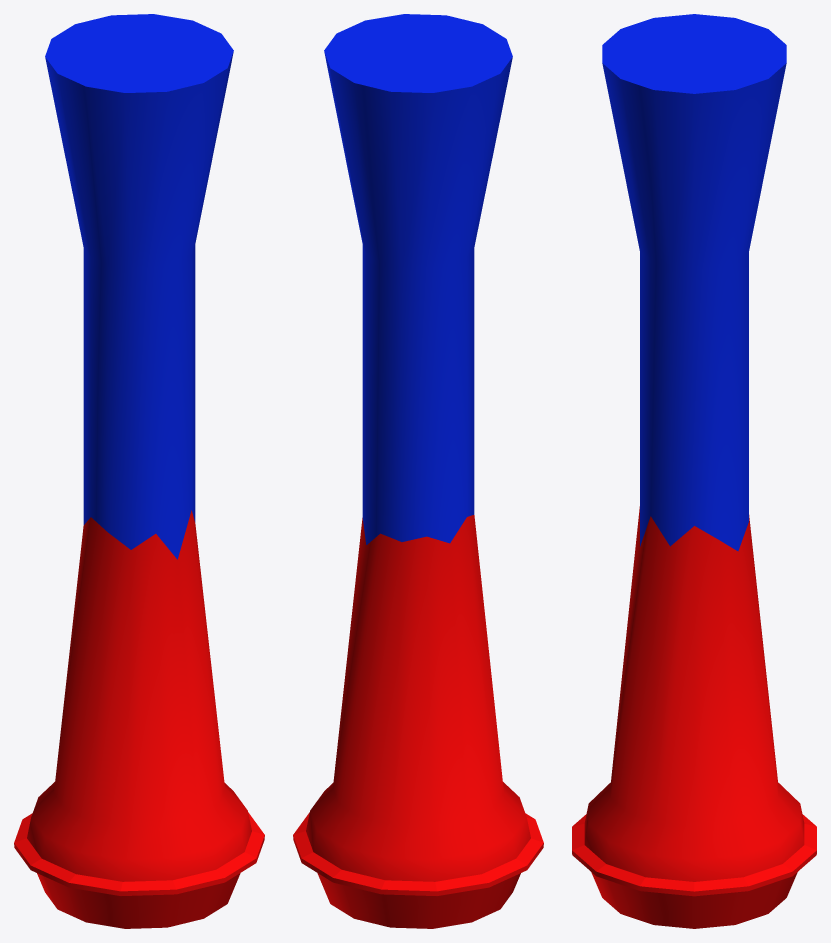
Rendered from body_B.FBX.
3 renders of one model, left to right at view 1: azimuth 30°, elevation 25°; view 2: azimuth 150°, elevation 25°; view 3: azimuth 270°, elevation 25°, orthographic.
Visible parts, largest first — view 1: pillar_B_bodyup, pillar_B_bodydown; view 2: pillar_B_bodyup, pillar_B_bodydown; view 3: pillar_B_bodyup, pillar_B_bodydown.
Part boxes in pixels (<box>): pillar_B_bodyup: <box>45,14,233,559</box>; pillar_B_bodydown: <box>14,510,264,928</box>; pillar_B_bodyup: <box>324,14,512,544</box>; pillar_B_bodydown: <box>293,515,543,928</box>; pillar_B_bodyup: <box>602,14,786,551</box>; pillar_B_bodydown: <box>572,506,816,928</box>.
Bounding box in the file's own units: 10.62 × 38.95 × 10.36.
